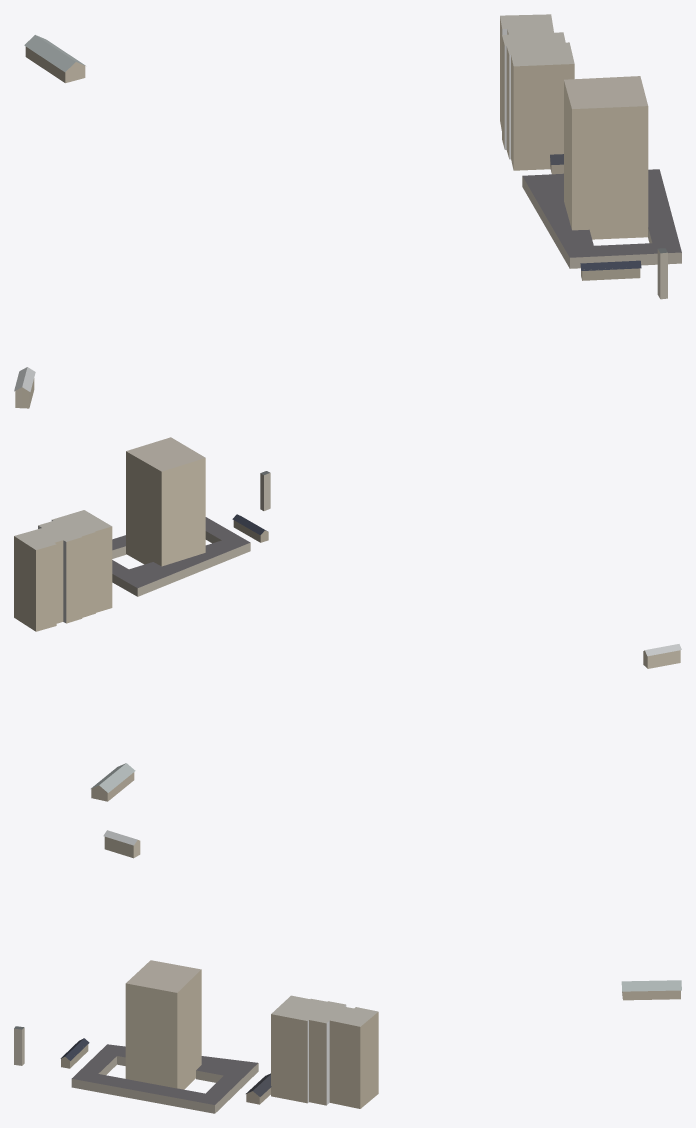
3 views of the same model, one above another, from view 1: azimuth 30°, elevation 25°; view 2: azimuth 150°, elevation 25°; view 3: azimuth 270°, elevation 25° (orthographic). The views are drawn at different scales.
Visible parts, largest first — view 1: tuile; view 2: tuile; view 3: tuile.
Boxes of the visible parts, x1,y1,x2,y2 form: tuile: (14, 14, 681, 408); tuile: (14, 437, 681, 801); tuile: (14, 830, 681, 1113).
Bounding box in the file's own units: 249 × 47.53 × 256.
